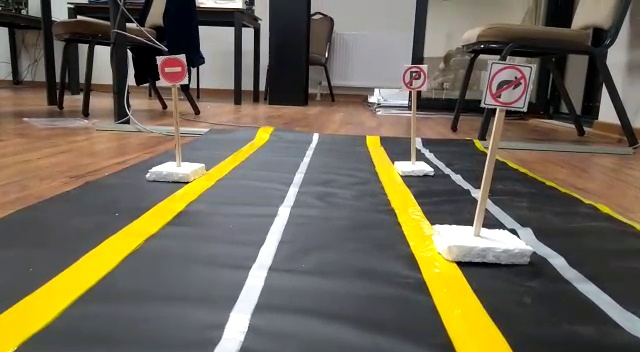girisi_olmayan_yol: (156, 55, 186, 85)
park_yapilmaz: (403, 64, 426, 91)
saga_donulmez: (485, 61, 528, 111)
